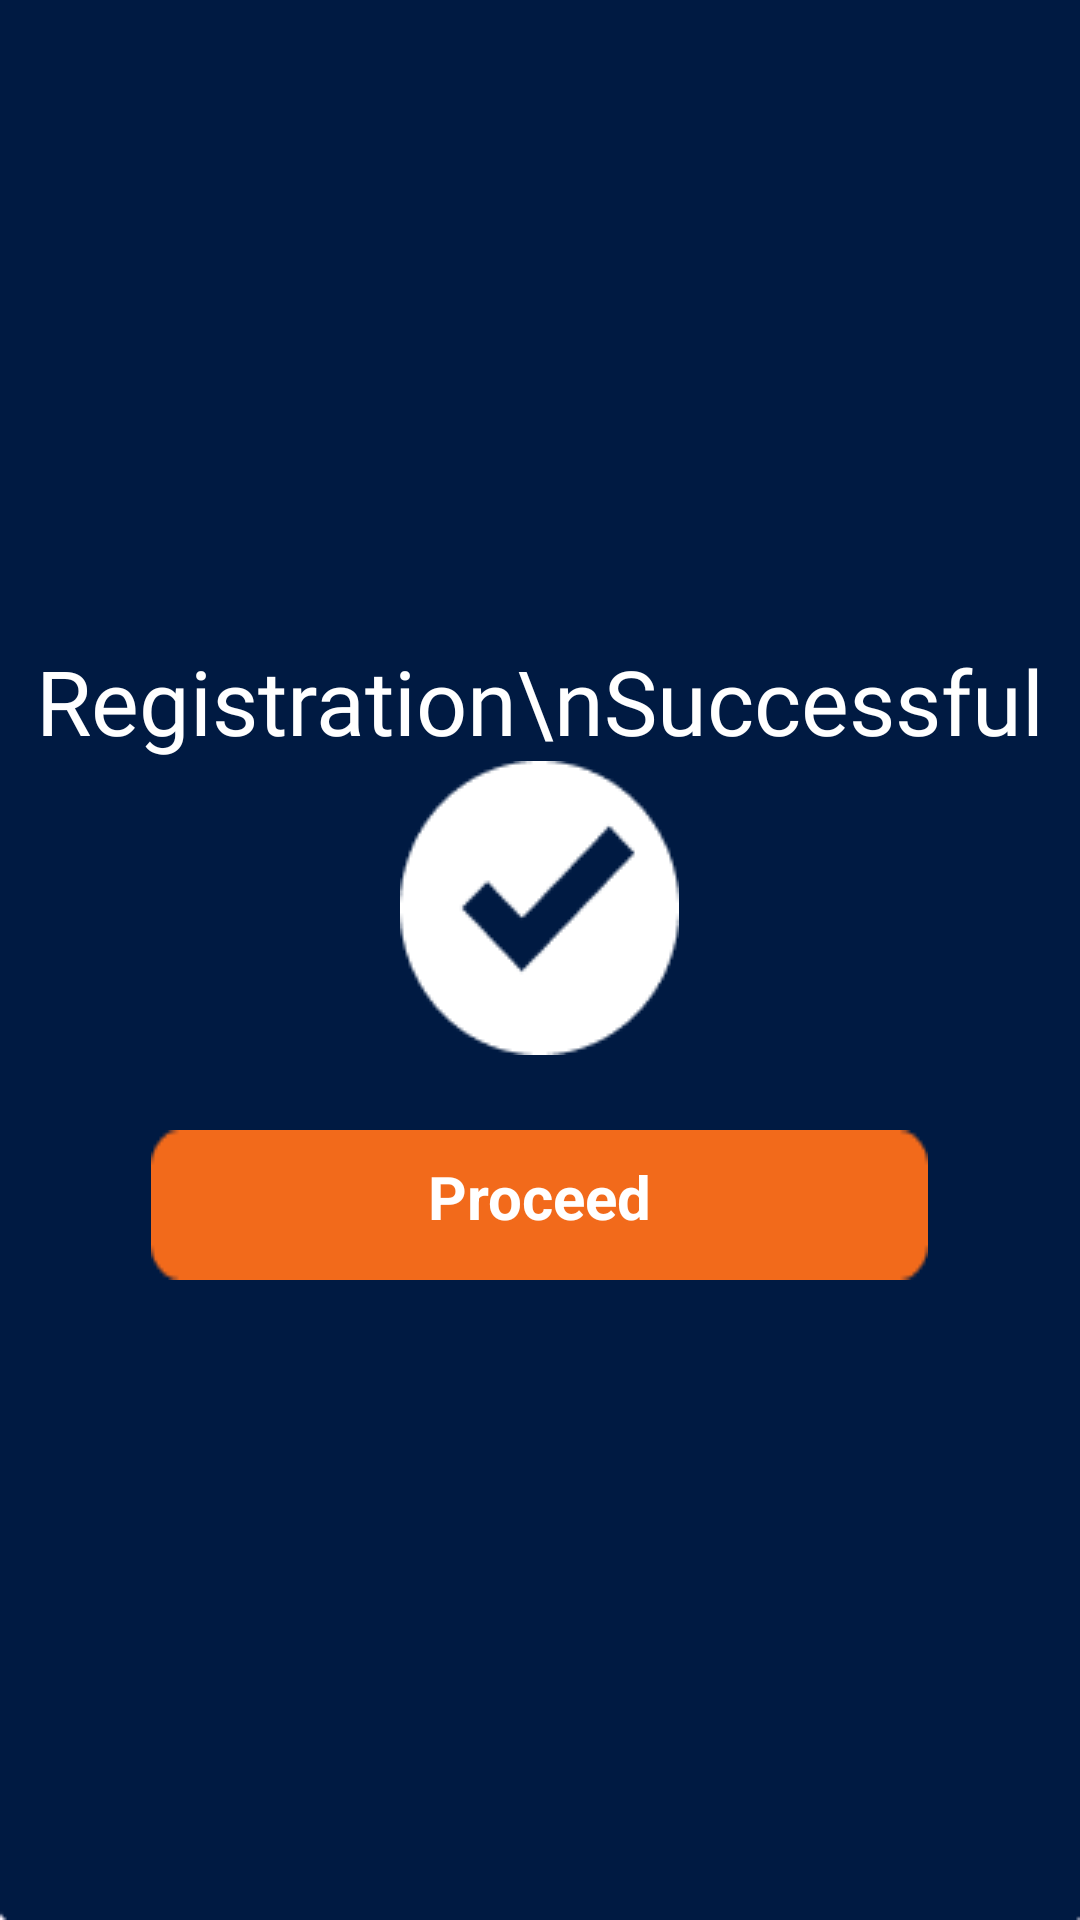

Screen size 1080px x 1920px. Icon name, then its box in pixels as (x1, y1, x2, y2):
check: (400, 761, 679, 1055)
